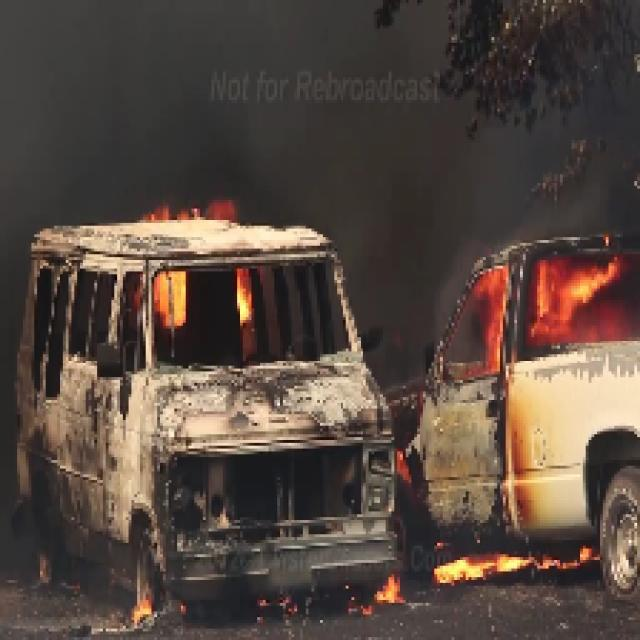Fire: (477, 254, 637, 346)
Smoke: (20, 32, 217, 188)
